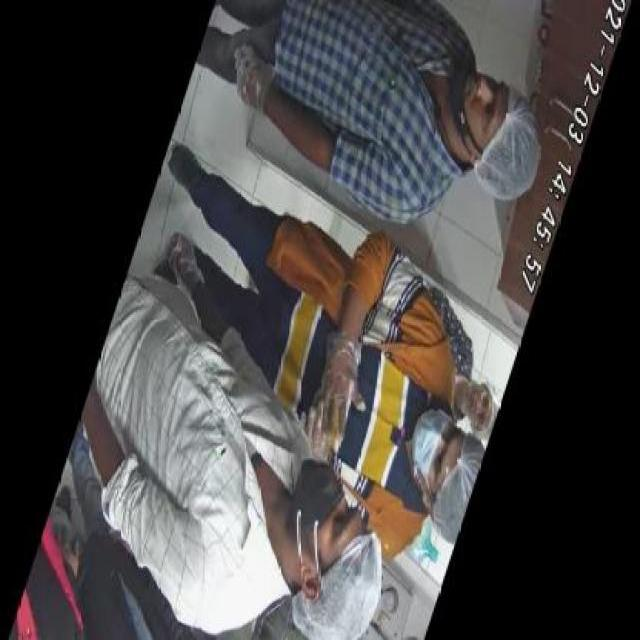hairnet: (301, 539, 384, 636), (487, 94, 544, 198), (432, 436, 483, 519), (480, 388, 501, 433)
